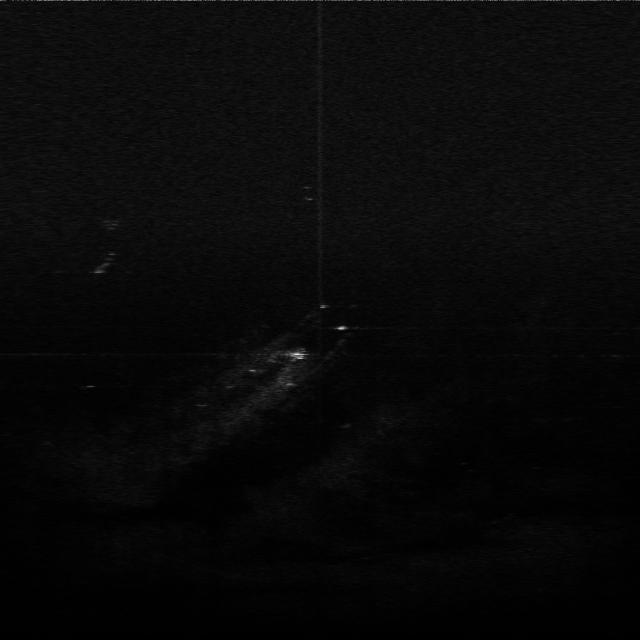rov: (282, 346, 309, 364)
